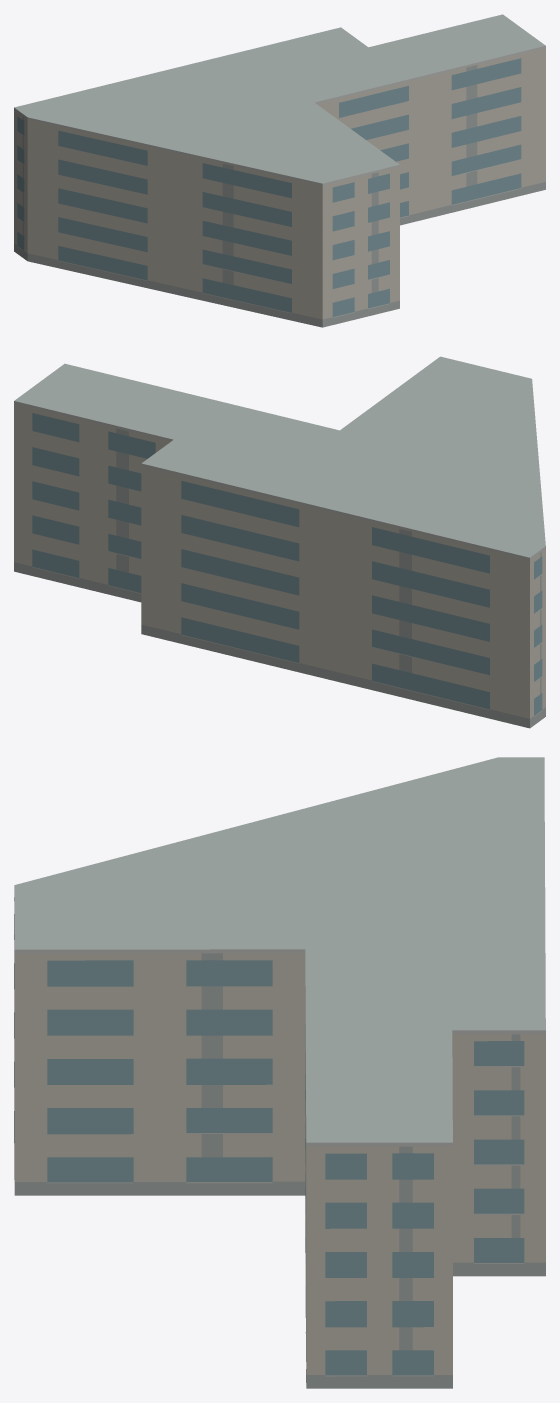
Rendered from residential-6596825b-710e-4a80-94c1-50d006d3226f.glb.
3 renders of one model, top to bottom at view 1: azimuth 30°, elevation 25°; view 2: azimuth 150°, elevation 25°; view 3: azimuth 270°, elevation 25°, orthographic. The views are drawn at different scales.
Parts seen in each view (by area): view 1: residential-6596825b-710e-4a80-94c1-50d006d3226f.tmp; view 2: residential-6596825b-710e-4a80-94c1-50d006d3226f.tmp; view 3: residential-6596825b-710e-4a80-94c1-50d006d3226f.tmp.
Part boxes in pixels (x1,y1,x2,y2): residential-6596825b-710e-4a80-94c1-50d006d3226f.tmp: [14, 14, 545, 327]; residential-6596825b-710e-4a80-94c1-50d006d3226f.tmp: [14, 356, 545, 728]; residential-6596825b-710e-4a80-94c1-50d006d3226f.tmp: [14, 757, 545, 1388].
Size of the model in its own units: 51.25 by 15.25 by 29.88.
